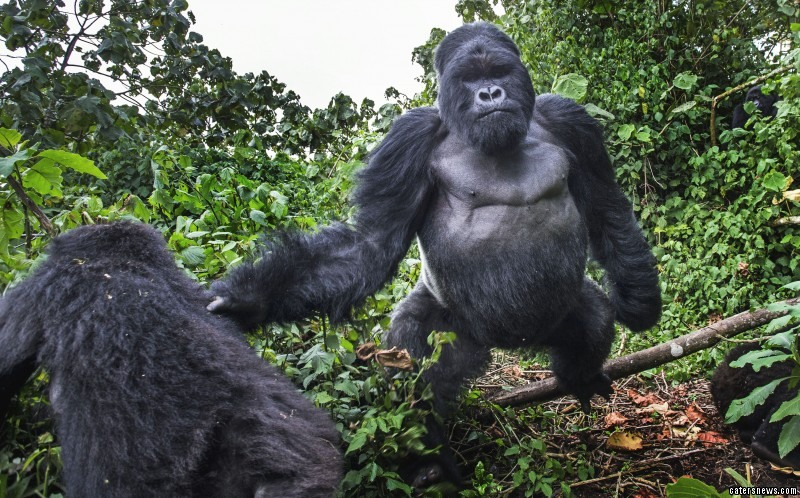Goriila: (215, 17, 713, 438)
